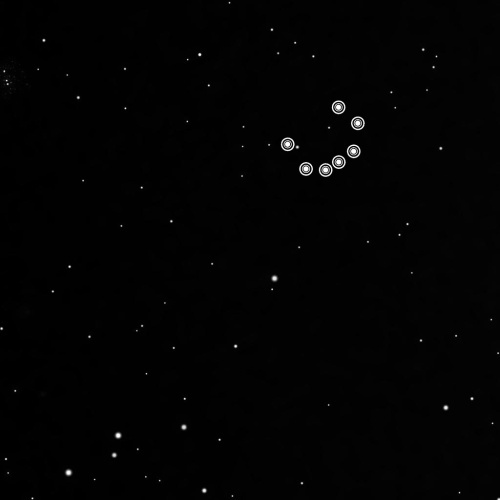corona_borealis: (279, 92, 368, 183)
